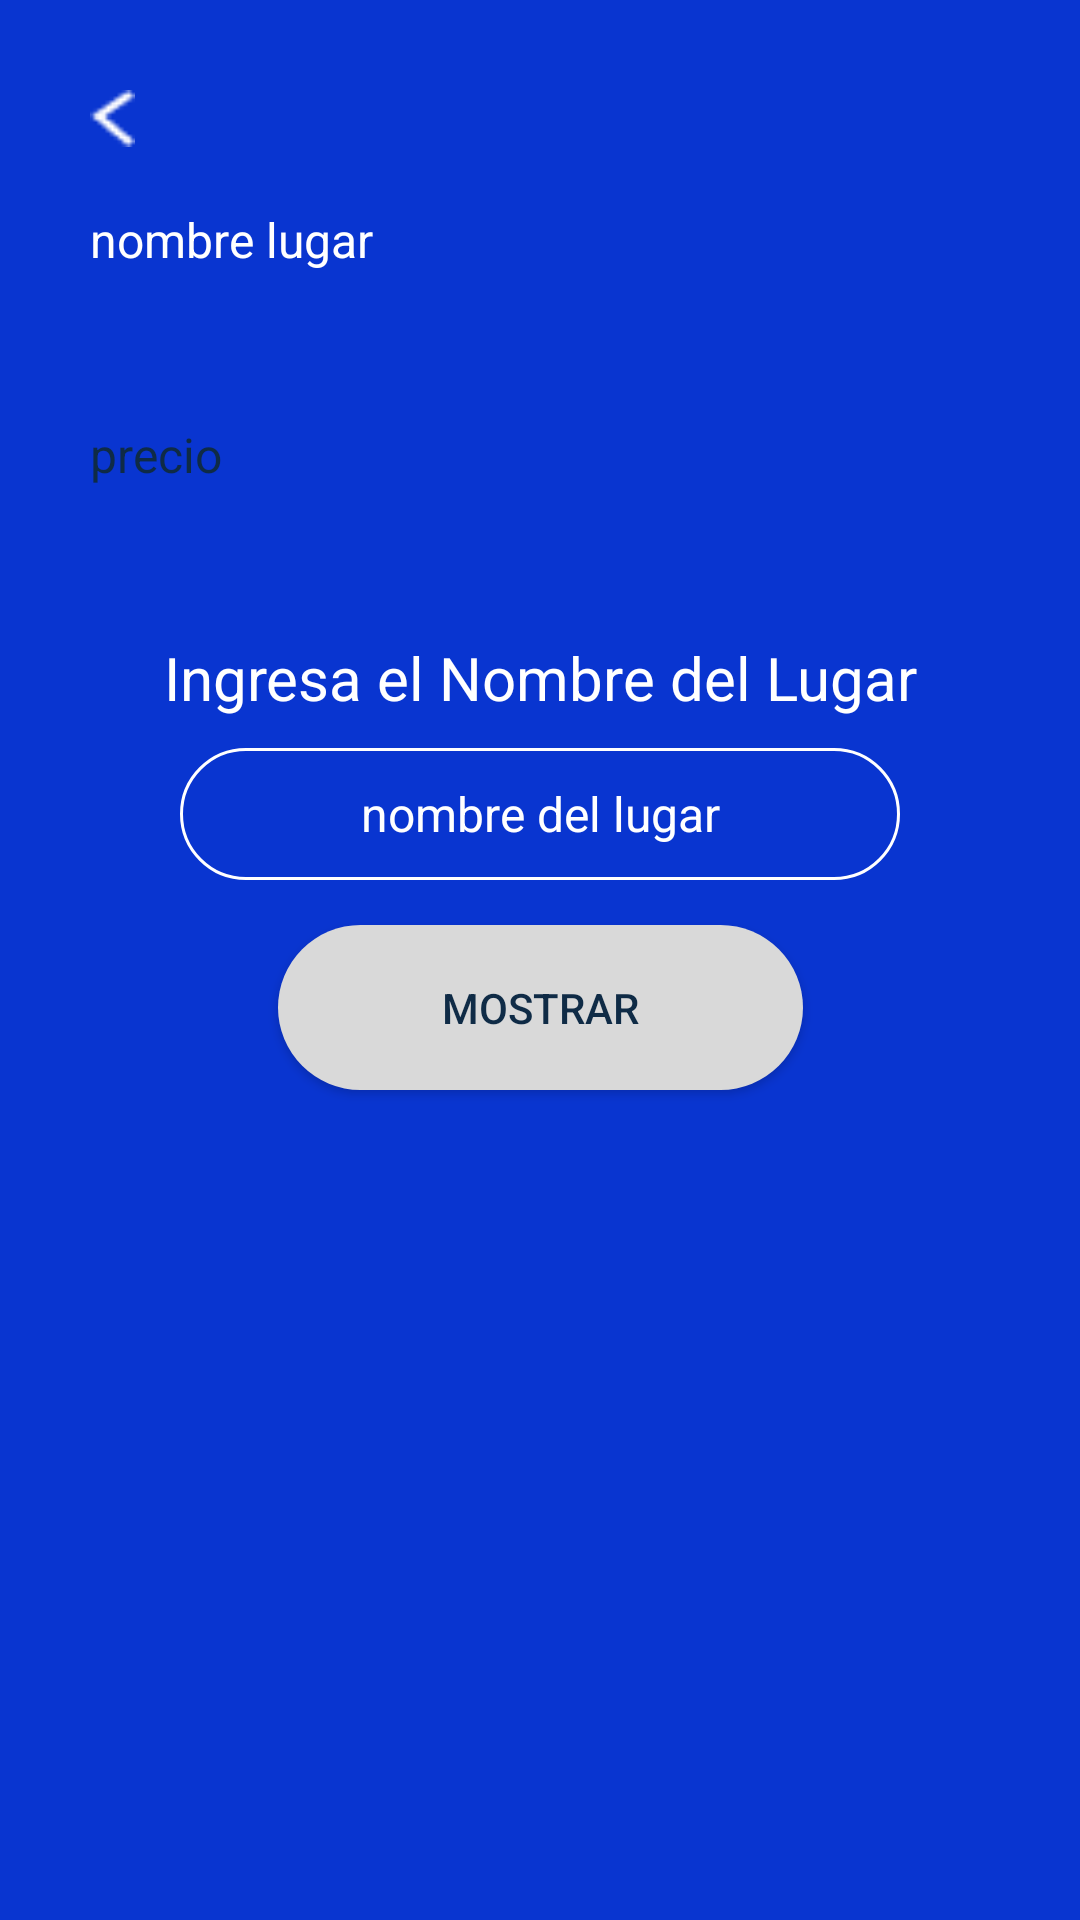

Locate icon controls on the screen. Image size 1080x1920, boxes as bbox=(x1, y1, x2, y2).
before: bbox=(90, 90, 135, 147)
